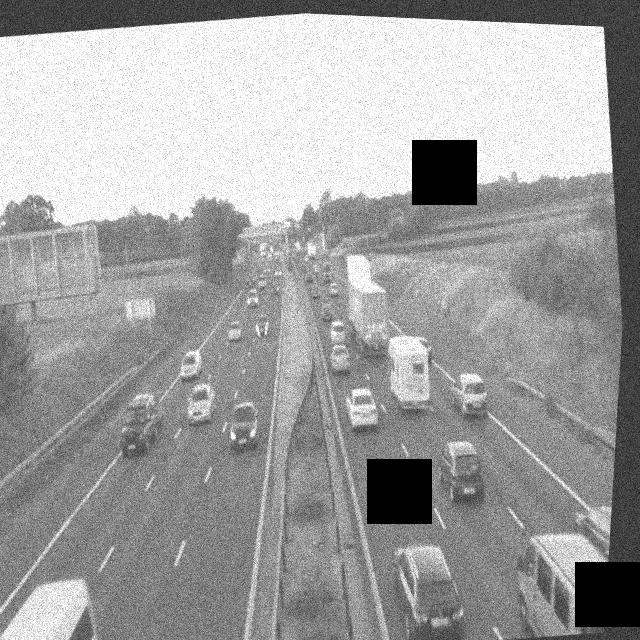car: (509, 520, 611, 640), (386, 536, 472, 640), (113, 389, 168, 458), (572, 502, 612, 593), (433, 438, 488, 504), (225, 399, 264, 452), (451, 371, 491, 419), (344, 384, 380, 431), (183, 380, 219, 424), (177, 348, 205, 383), (325, 338, 352, 374), (326, 322, 349, 351), (417, 334, 436, 361), (252, 310, 270, 338), (226, 320, 244, 343), (320, 302, 335, 324), (246, 290, 260, 309), (328, 281, 341, 298), (310, 283, 323, 299), (268, 281, 280, 296), (305, 268, 316, 282), (274, 265, 283, 278)
truck: (0, 570, 104, 640), (335, 250, 398, 360), (381, 330, 438, 416)
